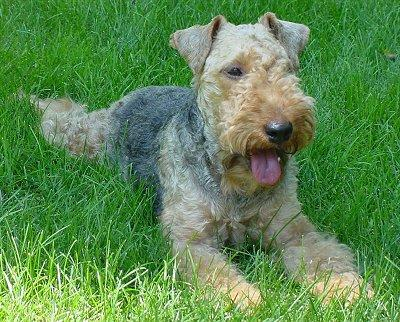wire-haired_fox_terrier: (11, 13, 382, 317)
